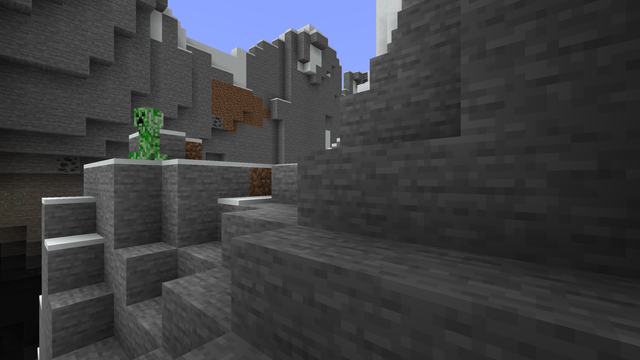creepers: (133, 103, 164, 153)
